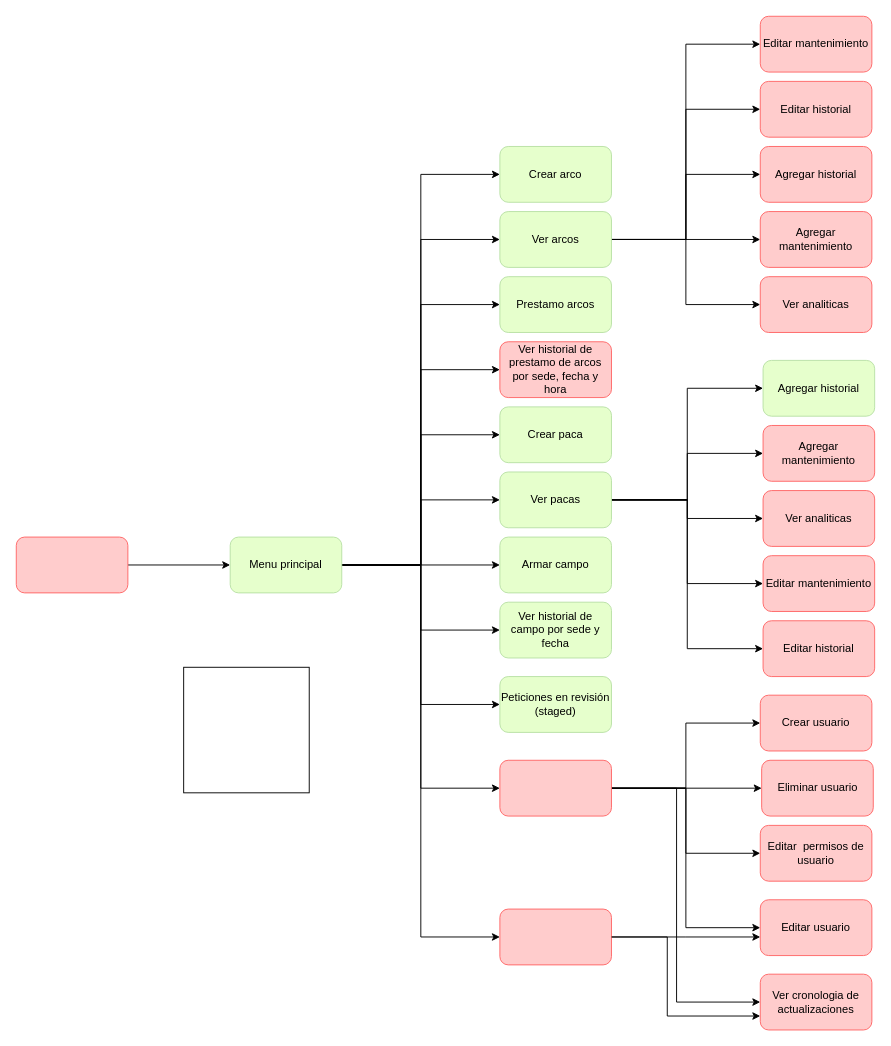
The diagram is 891 pixels wide and 1046 high, and some of its shapes have lost their labels. Each missing label, with the centre of its shape:
"Gestion de usuarios" goes at pixel 555 787.
"Login" goes at pixel 71 564.
"Mi perfil" goes at pixel 555 936.
"No hay restricciones de acceso en la version 0.6.5" goes at pixel 246 729.
